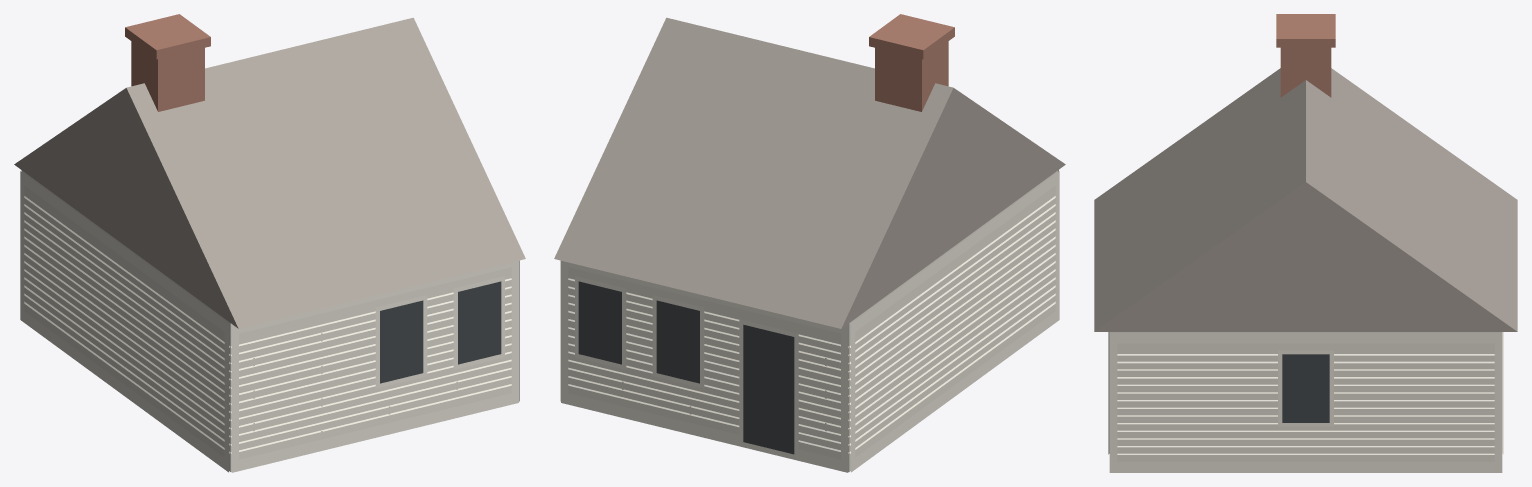
The model's file is recon_1835_north_d3_055__inferred_1835.glb.
The picture shows the model from 3 angles, left to right: view 1: azimuth 30°, elevation 25°; view 2: azimuth 150°, elevation 25°; view 3: azimuth 270°, elevation 25°; orthographic projection. The views are drawn at different scales.
Visible parts, largest first — view 1: recon_1835_north_d3_055__inferred_1835; view 2: recon_1835_north_d3_055__inferred_1835; view 3: recon_1835_north_d3_055__inferred_1835.
Boxes of the visible parts, box(x1,y1,x2,y2) form: recon_1835_north_d3_055__inferred_1835: box(14, 14, 525, 472); recon_1835_north_d3_055__inferred_1835: box(554, 14, 1065, 472); recon_1835_north_d3_055__inferred_1835: box(1094, 14, 1517, 472).
Bounding box in the file's own units: 5.25 × 6.08 × 7.01.
